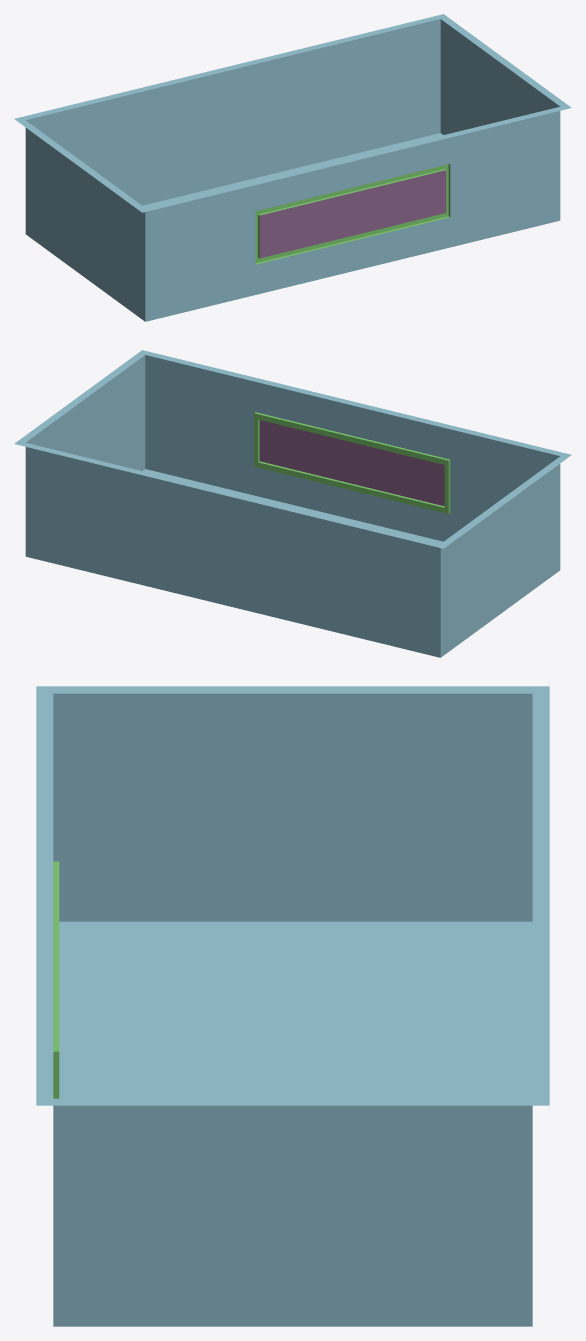
File: labo.FBX
The picture shows the model from 3 angles, top to bottom: view 1: azimuth 30°, elevation 25°; view 2: azimuth 150°, elevation 25°; view 3: azimuth 270°, elevation 25°; orthographic projection. The views are drawn at different scales.
Visible parts, largest first — view 1: Box001; view 2: Box001; view 3: Box001.
Boxes of the visible parts, x1,y1,x2,y2 form: Box001: [14, 14, 571, 321]; Box001: [14, 350, 571, 657]; Box001: [36, 686, 549, 1326].
Size of the model in its own units: 828 by 210 by 428.
